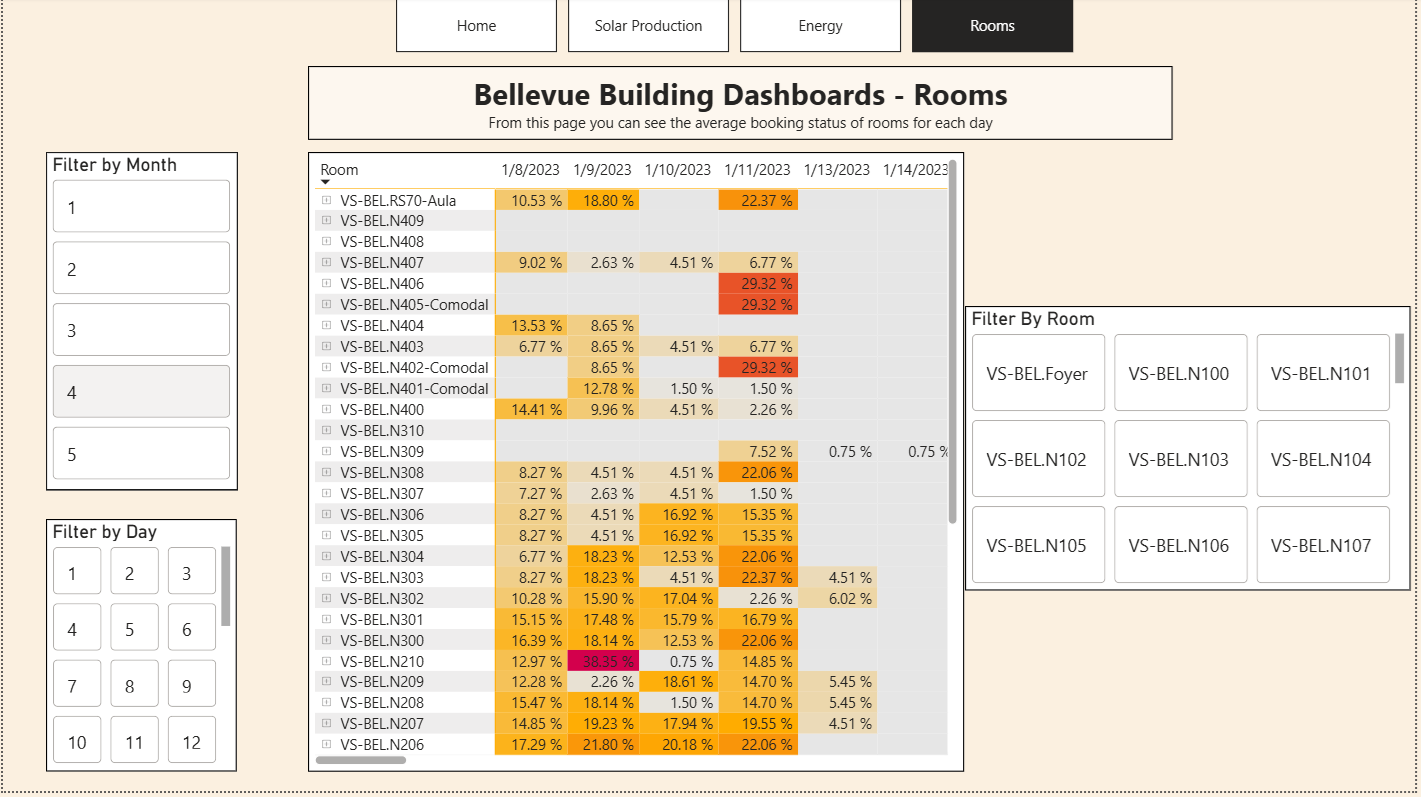

What the dashboard file says about the page in this screenshot:
{"tool":"powerbi","page":{"name":"Rooms","canvas":[1280,720],"ordinal":3},"visuals":[{"type":"textbox","box":[276.7,62.2,784.4,66.7],"z":0},{"type":"pageNavigator","box":[356.7,0,617.8,50],"z":1000},{"type":"advancedSlicerVisual","fields":{"Values":["DimTime.Month"]},"box":[39,140.3,173.7,306.5],"z":2000},{"type":"advancedSlicerVisual","fields":{"Values":["DimTime.Day"]},"box":[38.9,473.3,173.3,228.9],"z":3000},{"type":"advancedSlicerVisual","fields":{"Values":["DimRoom.FullName"]},"box":[872.1,280.2,404.1,258.3],"z":4000},{"type":"pivotTable","fields":{"Rows":["DimRoom.FullName","DimReservation.Activity"],"Columns":["DimTime.Full Date"],"Values":["Avg(Rooms_FactTable.Pct_Rooms_Booked)"]},"box":[276.8,140.3,595.4,562],"z":5000}]}

Visuals, with their boxes in screenshot pixels (x1, y1, x2, y2), scaled from the page's 1280x720 canvas onto the 1421x797 screenshot:
textbox: select_region(307, 69, 1178, 143)
pageNavigator: select_region(396, 0, 1082, 55)
advancedSlicerVisual - DimTime.Month: select_region(43, 155, 236, 495)
advancedSlicerVisual - DimTime.Day: select_region(43, 524, 236, 777)
advancedSlicerVisual - DimRoom.FullName: select_region(968, 310, 1417, 596)
pivotTable - DimRoom.FullName x DimReservation.Activity: select_region(307, 155, 968, 777)
